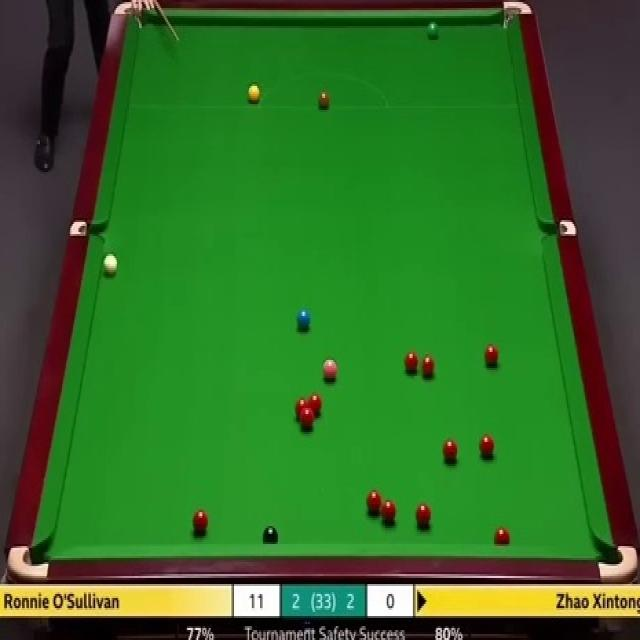black-ball: (262, 523, 280, 545)
blue-ball: (295, 308, 311, 333)
brown-ball: (316, 88, 330, 111)
green-ball: (425, 21, 440, 40)
pink-ball: (323, 354, 338, 382)
red-ball: (380, 497, 398, 528), (402, 348, 419, 377), (414, 503, 431, 529), (477, 433, 494, 458), (366, 489, 382, 515), (421, 355, 436, 381), (442, 439, 458, 463), (484, 343, 499, 368), (194, 508, 208, 534), (308, 394, 322, 418), (494, 526, 510, 546), (301, 410, 314, 430), (295, 398, 308, 418)
white-ball: (104, 253, 117, 277)
yellow-ball: (246, 83, 260, 103)
